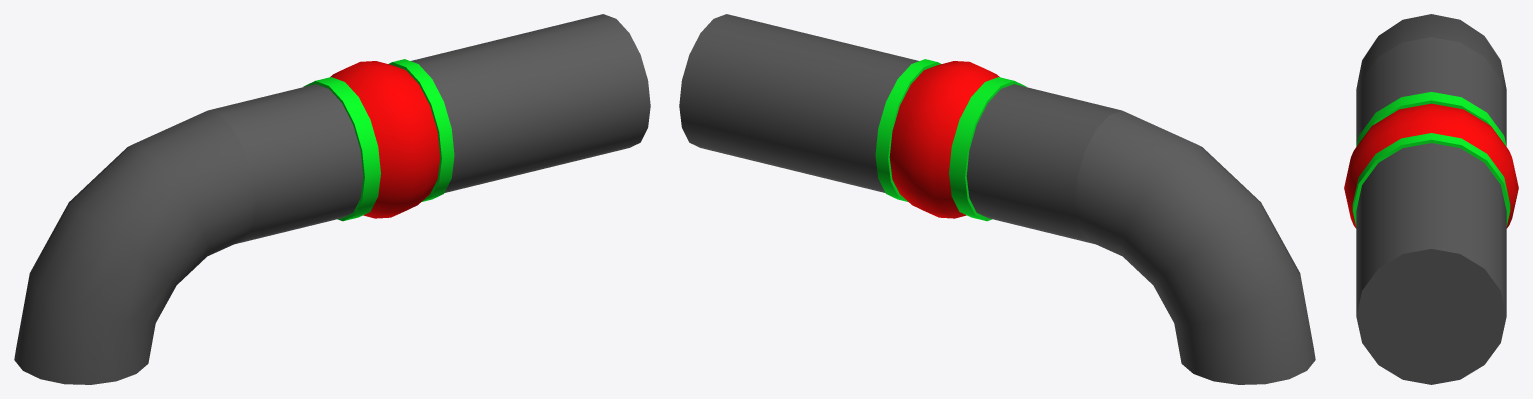
File: Pipes.fbx
3 renders of one model, left to right at view 1: azimuth 30°, elevation 25°; view 2: azimuth 150°, elevation 25°; view 3: azimuth 270°, elevation 25°, orthographic. The views are drawn at different scales.
Visible parts, largest first — view 1: Turn, Joint, Base; view 2: Turn, Joint, Base; view 3: Base, Joint, Turn.
Boxes of the visible parts, x1,y1,x2,y2 form: Turn: (14,110,254,384); Joint: (208,59,454,243); Base: (411,14,650,192); Turn: (1075,110,1315,384); Joint: (875,59,1121,243); Base: (679,14,918,192); Base: (1356,143,1506,384); Joint: (1344,37,1518,228); Turn: (1356,14,1506,104).
Size of the model in its own units: 59.06 by 20.65 by 13.74.
